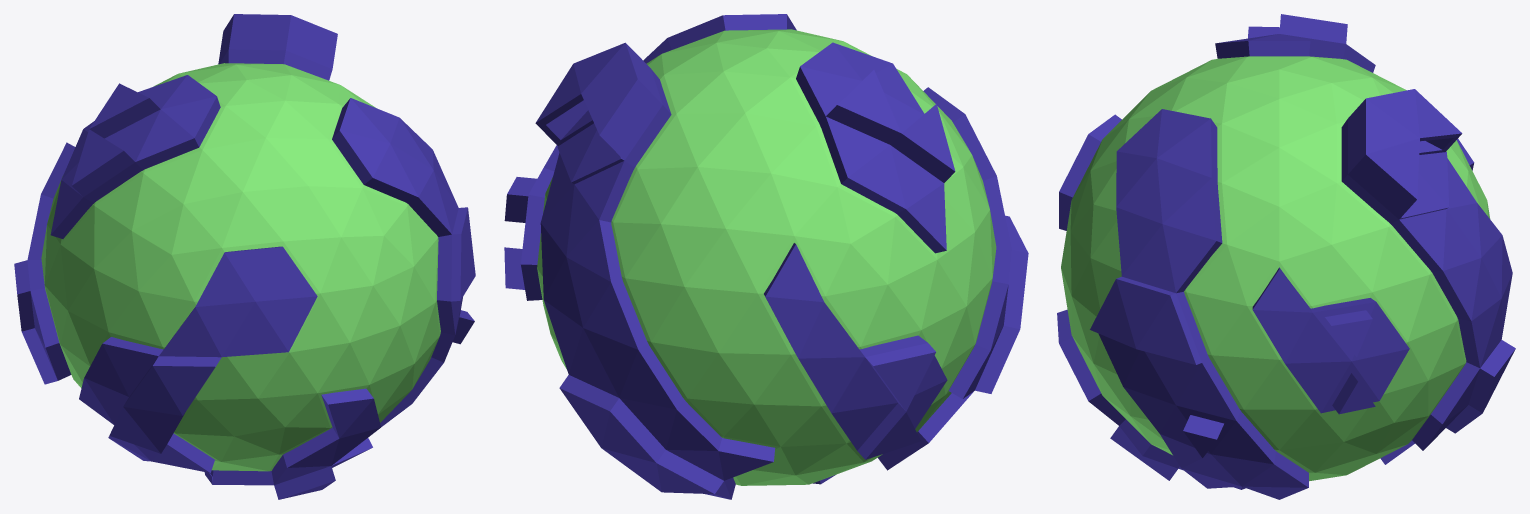
Rendered from Planeta_8.fbx.
The picture shows the model from 3 angles, left to right: view 1: azimuth 30°, elevation 25°; view 2: azimuth 150°, elevation 25°; view 3: azimuth 270°, elevation 25°; orthographic projection. The views are drawn at different scales.
Parts seen in each view (by area): view 1: Icosphere.013, Icosphere.007; view 2: Icosphere.013, Icosphere.007; view 3: Icosphere.007, Icosphere.013.
Part boxes in pixels (<box>): Icosphere.013: <box>41,63,440,471</box>; Icosphere.007: <box>14,14,475,499</box>; Icosphere.013: <box>537,29,996,485</box>; Icosphere.007: <box>504,14,1028,499</box>; Icosphere.007: <box>1057,14,1515,499</box>; Icosphere.013: <box>1061,56,1490,481</box>.
Size of the model in its own units: 2620 by 2579 by 2526.
